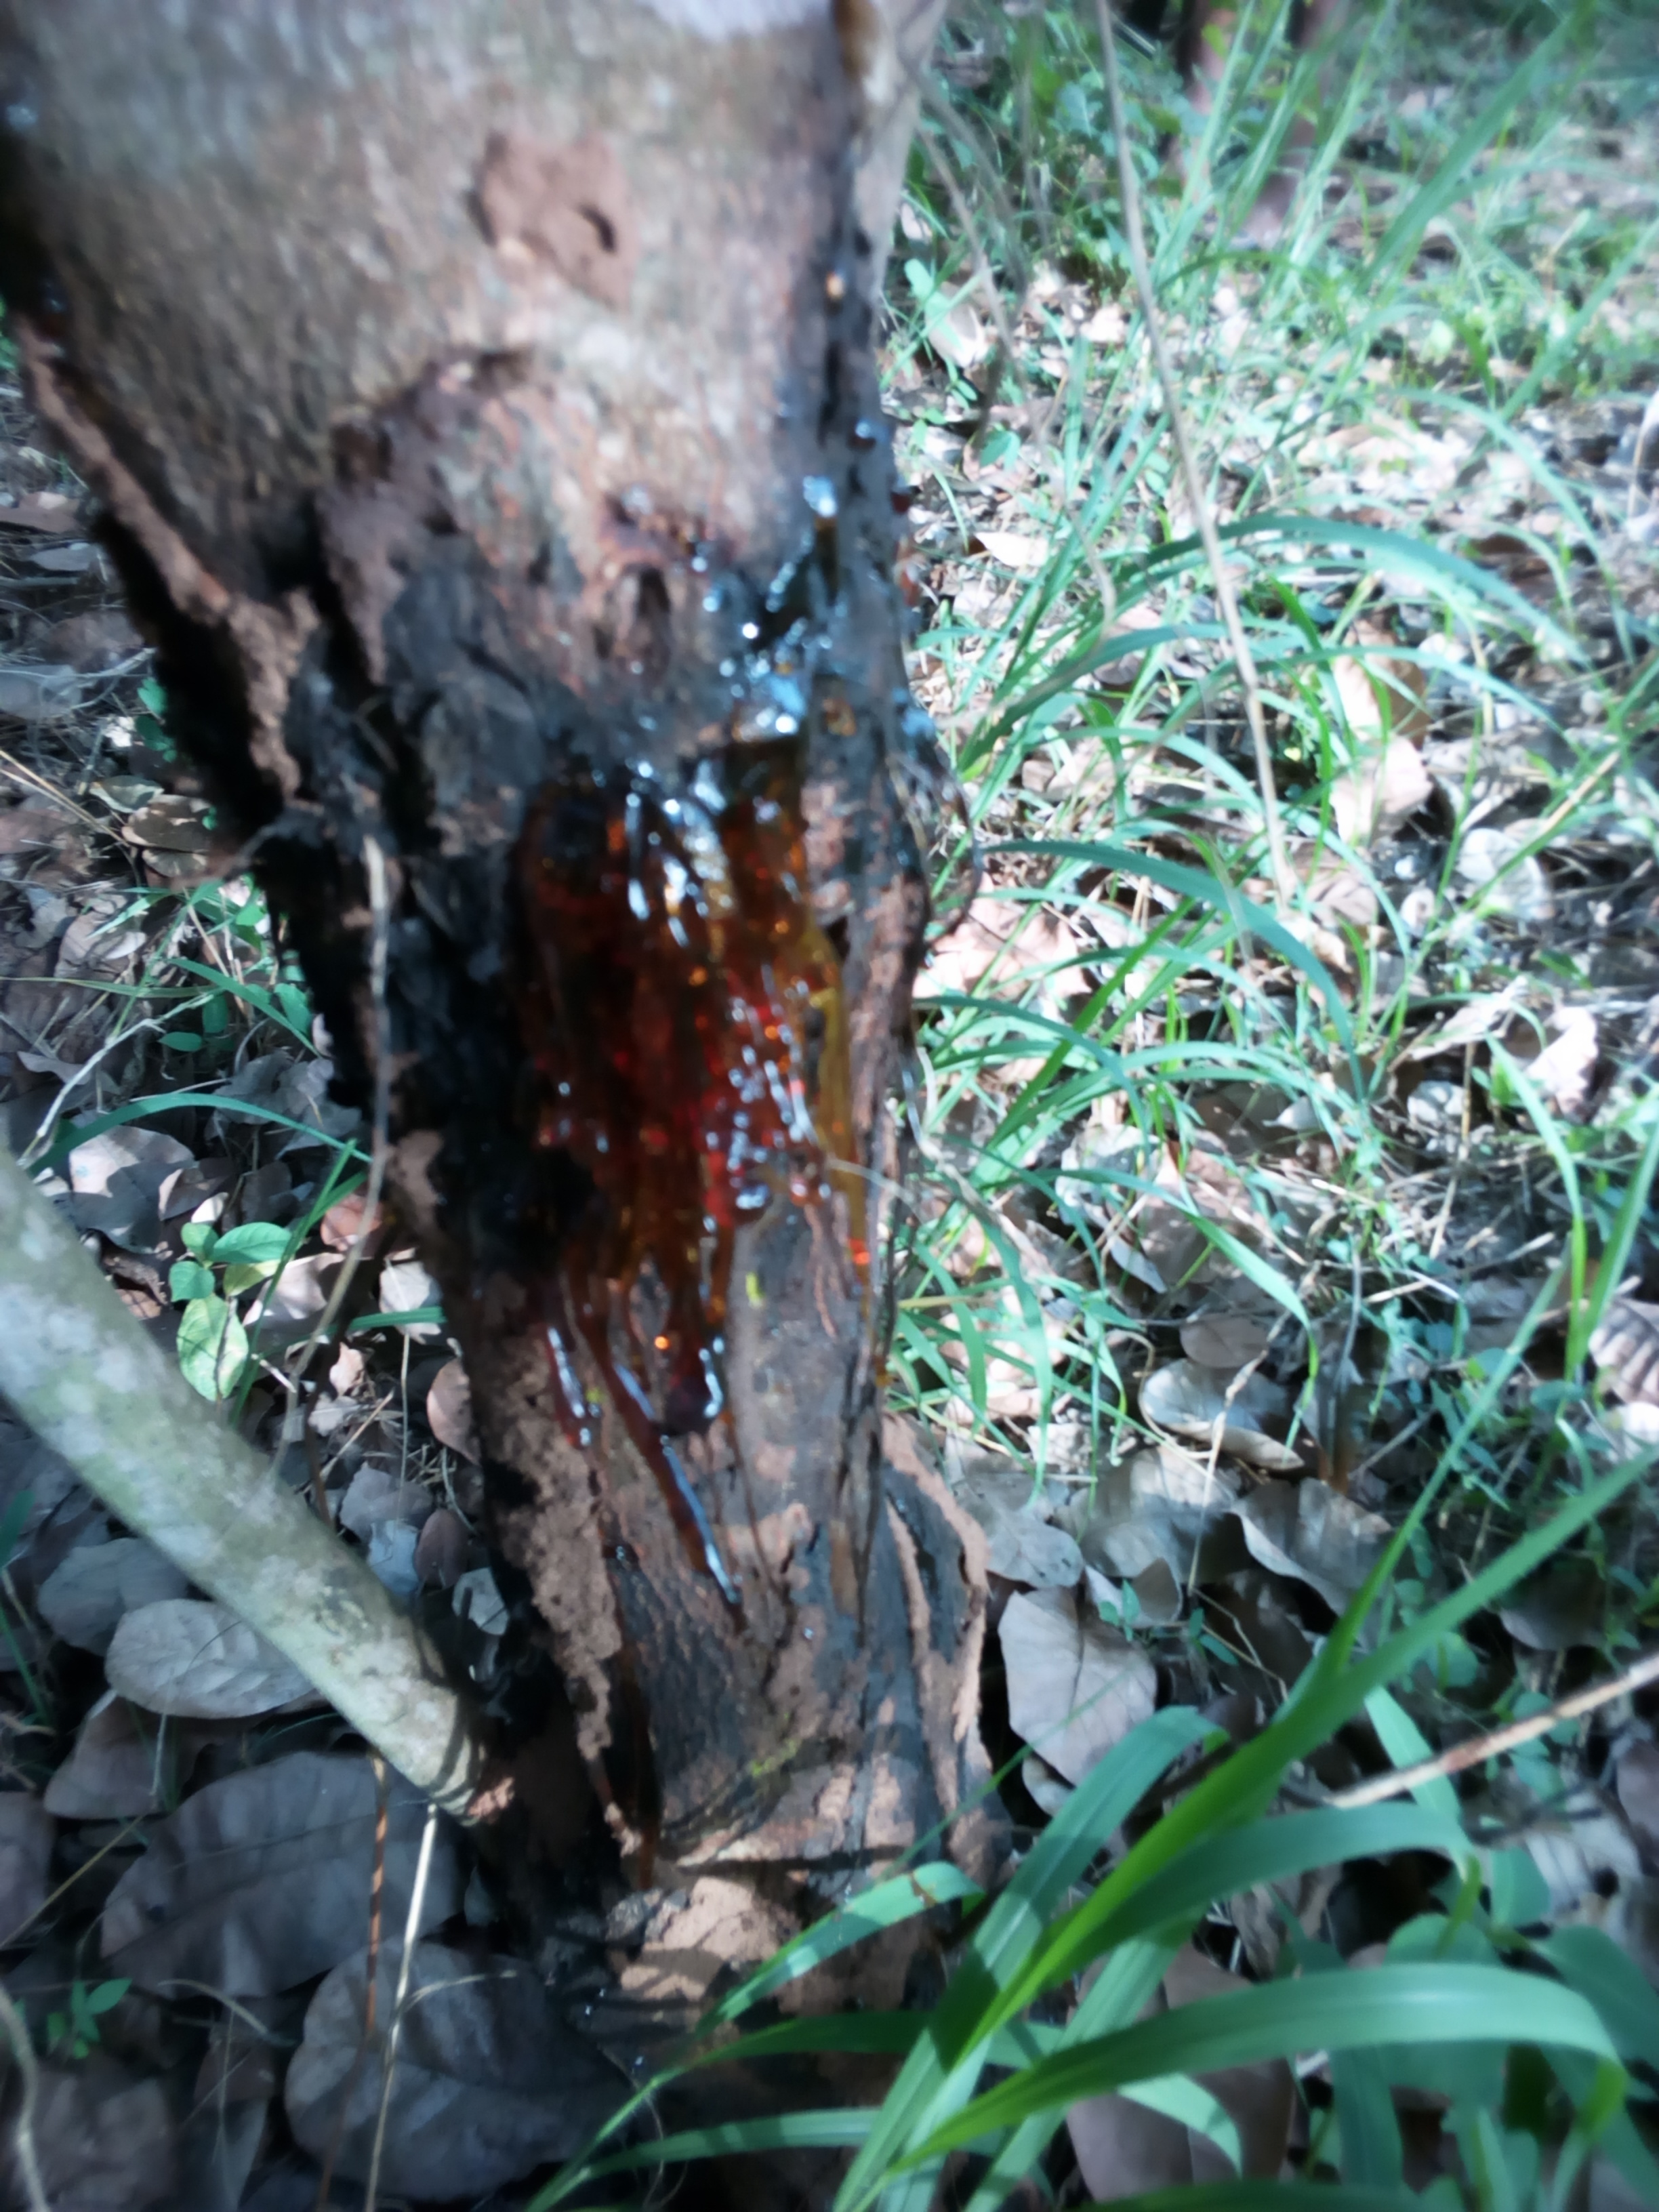Gommose: (317, 564, 931, 1651)
